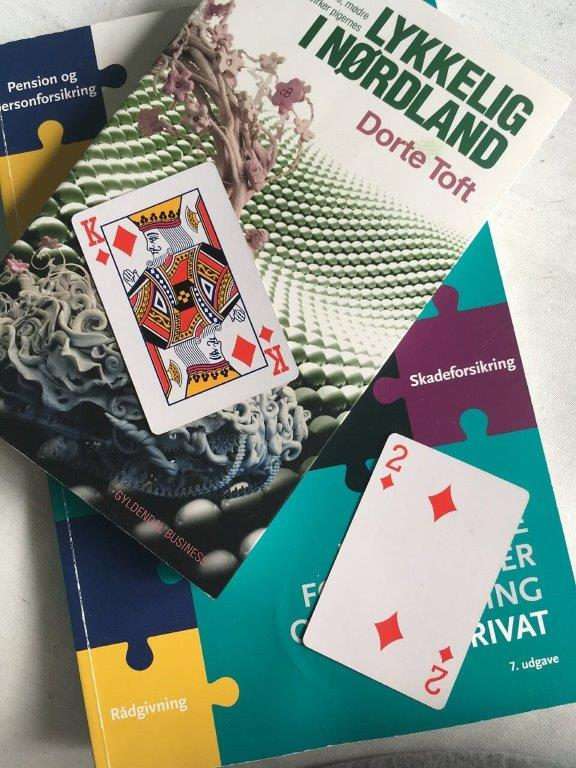2D: (375, 442, 411, 494)
KD: (78, 213, 112, 269)
